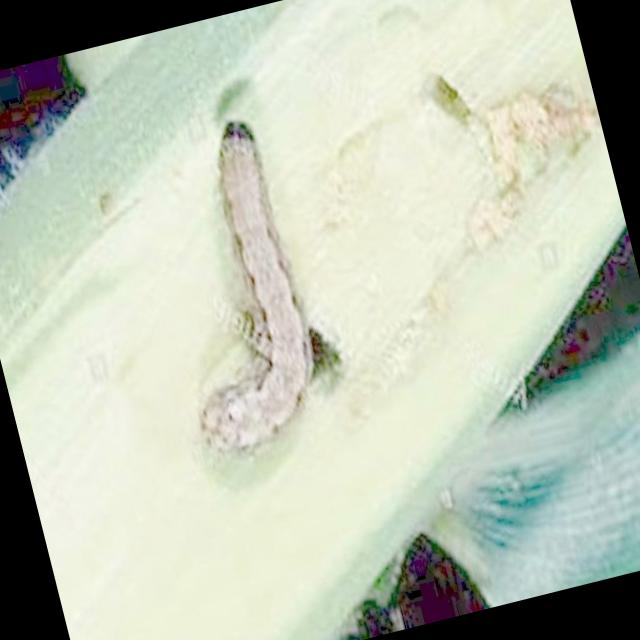pest: (136, 114, 346, 461)
